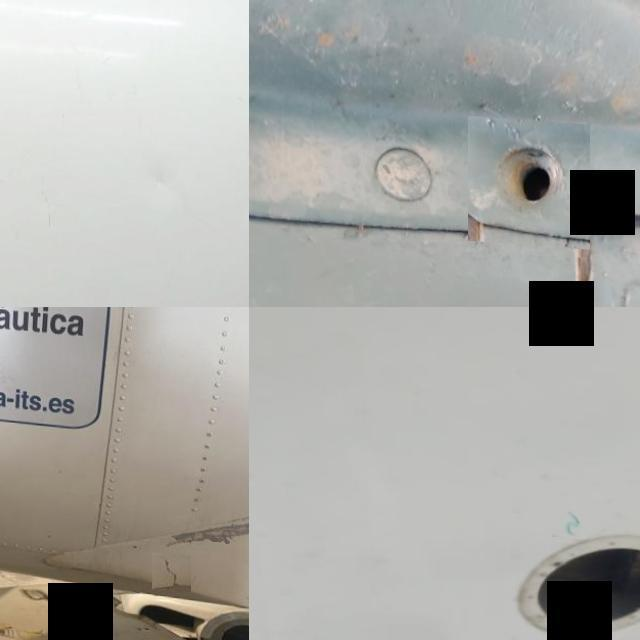Crack: (152, 544, 191, 586), (552, 494, 586, 534)
Dent: (146, 156, 180, 199)
Missing_Fastener: (468, 110, 590, 242)
